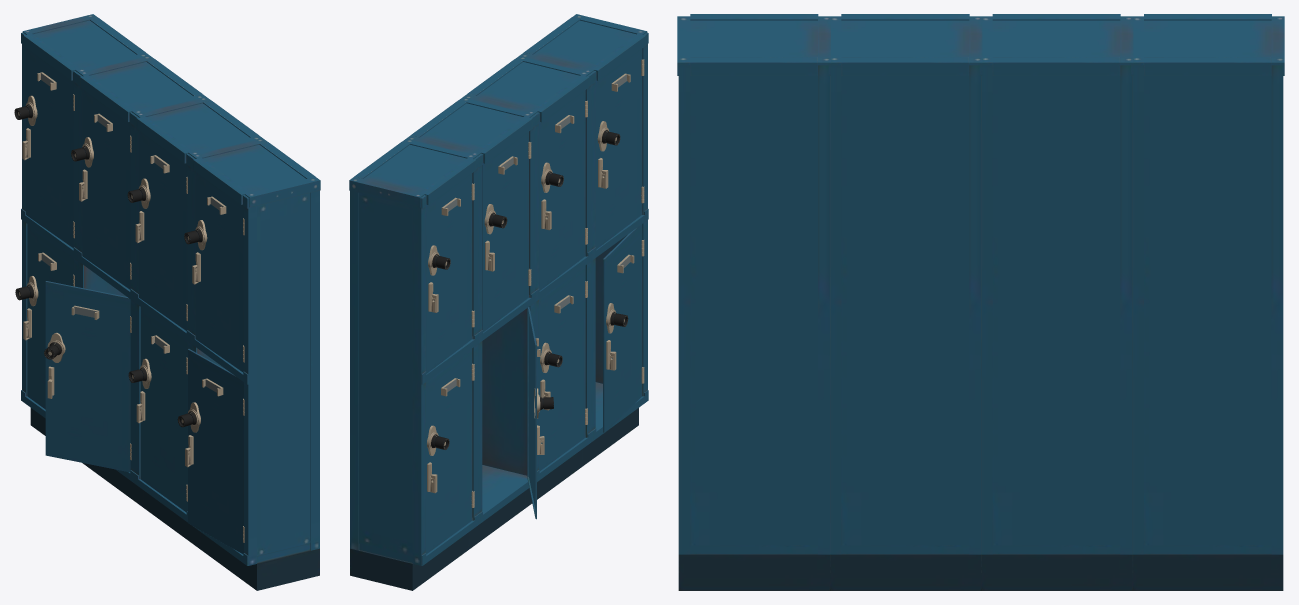
The model's file is optimized_lockers.gltf.
3 views of the same model, side by side, from view 1: azimuth 30°, elevation 25°; view 2: azimuth 150°, elevation 25°; view 3: azimuth 270°, elevation 25° (orthographic). The views are drawn at different scales.
Visible parts, largest first — view 1: Cube.109, Cylinder.022, Cylinder.036, Cylinder.017, Cylinder.029, Cylinder.005, Cube.092, Cube.111, Cube.100, Cylinder.018, Cube.101, Cube.098 (+33 smaller); view 2: Cube.033, Cylinder.018, Cylinder.017, Cylinder.029, Cylinder.005, Cube.111, Cube.092, Cylinder.036, Cube.071, Cube.024, Cube.027, Cube.023 (+34 smaller); view 3: Cube.091, Cube.072, Cube.035, Cube.110, Cube.027, Cube.101, Cube.064, Cube.026, Cube.063, Cube.082, Cube.083, Cube.102 (+20 smaller).
Boxes of the visible parts, x1=… form: Cube.109: x1=257, y1=193, x2=310, y2=556; Cylinder.022: x1=44, y1=281, x2=131, y2=471; Cylinder.036: x1=177, y1=349, x2=244, y2=553; Cylinder.017: x1=71, y1=89, x2=131, y2=289; Cylinder.029: x1=128, y1=307, x2=187, y2=512; Cylinder.005: x1=14, y1=48, x2=74, y2=248; Cube.092: x1=139, y1=130, x2=187, y2=330; Cube.111: x1=196, y1=172, x2=243, y2=372; Cube.100: x1=244, y1=195, x2=256, y2=565; Cylinder.018: x1=15, y1=224, x2=74, y2=409; Cube.101: x1=310, y1=190, x2=319, y2=550; Cube.098: x1=200, y1=532, x2=319, y2=590; Cube.033: x1=359, y1=193, x2=412, y2=556; Cylinder.018: x1=426, y1=348, x2=474, y2=553; Cylinder.017: x1=482, y1=132, x2=531, y2=332; Cylinder.029: x1=539, y1=265, x2=587, y2=470; Cylinder.005: x1=426, y1=173, x2=474, y2=373; Cube.111: x1=595, y1=49, x2=642, y2=249; Cube.092: x1=539, y1=90, x2=585, y2=290; Cylinder.036: x1=603, y1=224, x2=644, y2=433; Cube.071: x1=482, y1=131, x2=529, y2=475; Cube.024: x1=412, y1=195, x2=425, y2=565; Cube.027: x1=350, y1=190, x2=359, y2=550; Cube.023: x1=350, y1=532, x2=469, y2=590; Cube.091: x1=841, y1=72, x2=969, y2=545; Cube.072: x1=992, y1=76, x2=1120, y2=545; Cube.035: x1=1144, y1=76, x2=1271, y2=545; Cube.110: x1=690, y1=76, x2=817, y2=545; Cube.027: x1=1271, y1=65, x2=1283, y2=554; Cube.101: x1=678, y1=65, x2=690, y2=554; Cube.064: x1=1120, y1=65, x2=1132, y2=554; Cube.026: x1=1132, y1=65, x2=1143, y2=554; Cube.063: x1=981, y1=65, x2=992, y2=554; Cube.082: x1=830, y1=65, x2=841, y2=554; Cube.083: x1=969, y1=65, x2=980, y2=554; Cube.102: x1=818, y1=65, x2=829, y2=554.
Size of the model in its own units: 1.01 by 3.01 by 3.13.
1 material, 1 textured.
